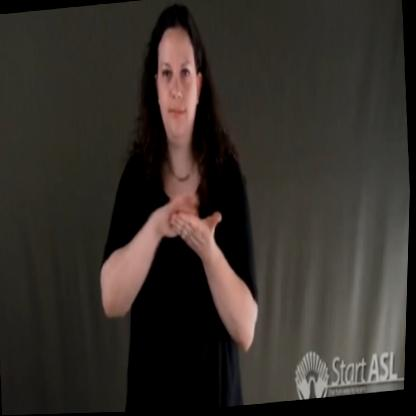NiceToMeetYou: (152, 172, 228, 291)
